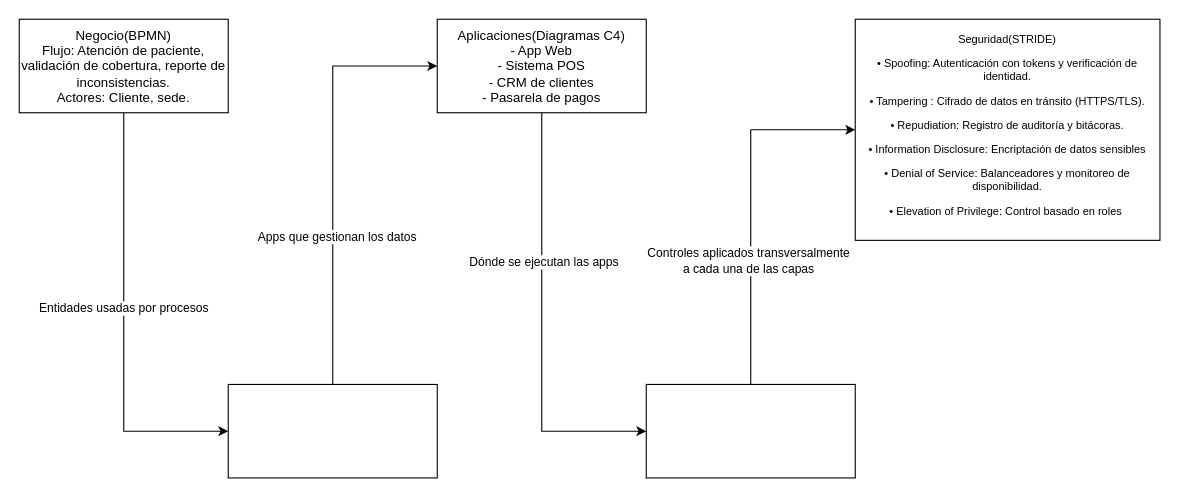
The diagram is 1179 pixels wide and 497 high, and some of its shapes have lost their labels. The shapes that lost their labels are listed below. From the top down, each one's box as (x1, y1, x2, y2) in pixels, then its label:
(227, 383, 437, 478): Información(ERD) - Paciente, Prestación Servicio, Servicio, Sede, Pago Previo
(645, 383, 855, 478): Infraestructura - Nube Híbrida - Bases de datos replicadas - Servidores locales
